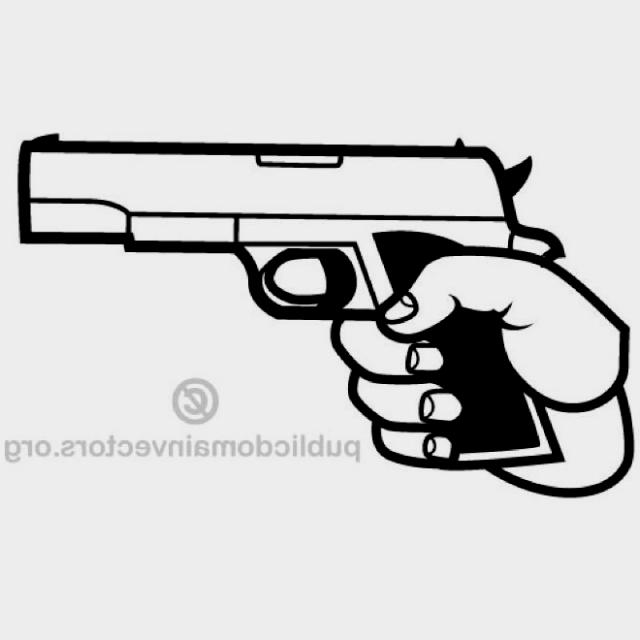pistol: (21, 131, 564, 465)
